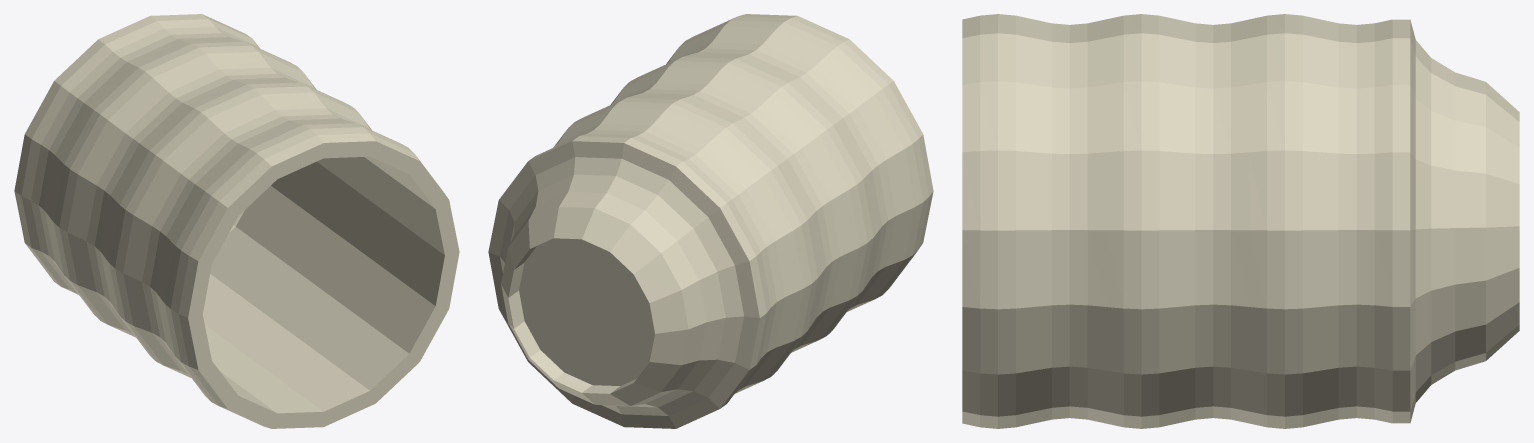
Rendered from o77__room73b2-sushi-cup-bodyset2.glb.
The picture shows the model from 3 angles, left to right: view 1: azimuth 30°, elevation 25°; view 2: azimuth 150°, elevation 25°; view 3: azimuth 270°, elevation 25°; orthographic projection. The views are drawn at different scales.
Size of the model in its own units: 0.076 by 0.076 by 0.102.
